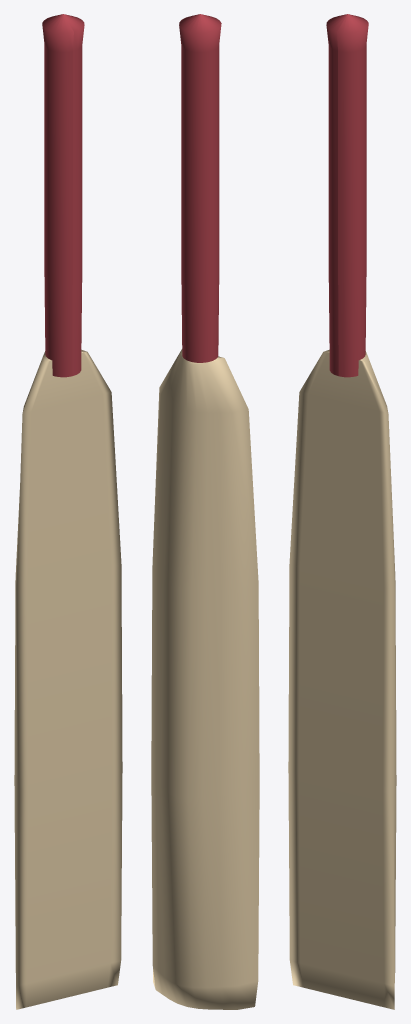
File: bat.glb
3 views of the same model, side by side, from view 1: azimuth 30°, elevation 25°; view 2: azimuth 150°, elevation 25°; view 3: azimuth 330°, elevation 25° (orthographic).
Visible parts, largest first — view 1: bat; view 2: bat; view 3: bat.
Part boxes in pixels (x1=…): bat: x1=14, y1=14, x2=122, y2=1009; bat: x1=151, y1=14, x2=259, y2=1009; bat: x1=288, y1=14, x2=396, y2=1009.
Size of the model in its own units: 0.108 by 0.965 by 0.062.
